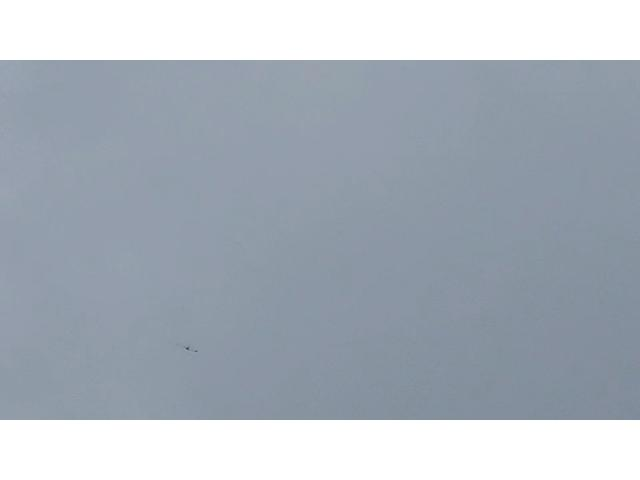Anti-Drone: (176, 341, 198, 353)
